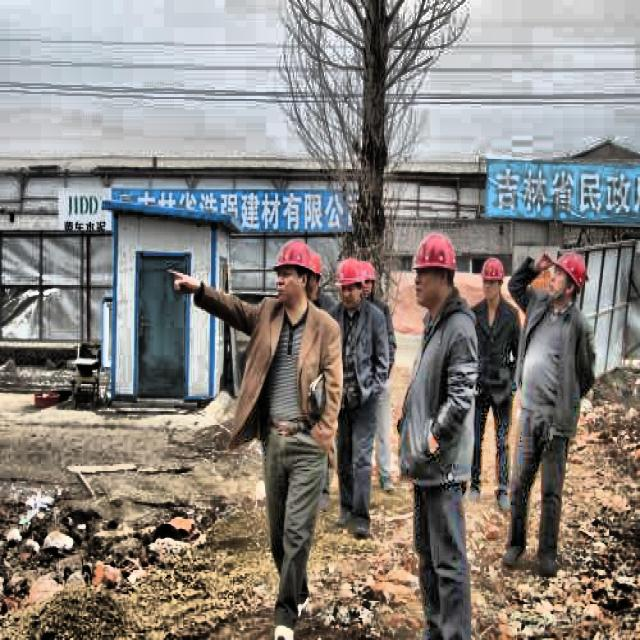helmet: (412, 229, 460, 312), (274, 239, 321, 307), (556, 249, 590, 306), (478, 254, 508, 302), (336, 254, 362, 307), (358, 256, 375, 304)
